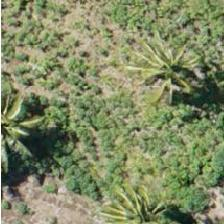coconut_tree: (120, 25, 210, 115), (87, 170, 177, 223), (0, 90, 46, 180)
